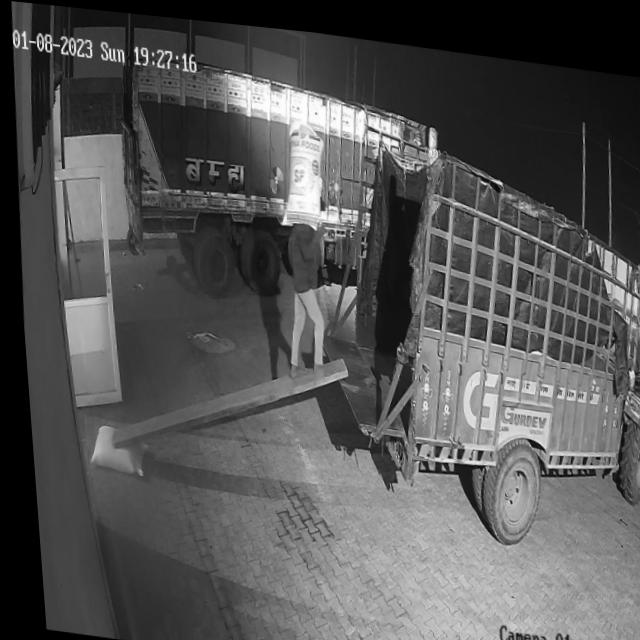sack: (276, 110, 327, 225), (81, 422, 141, 473)
